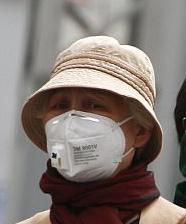OK: (46, 91, 126, 182)
